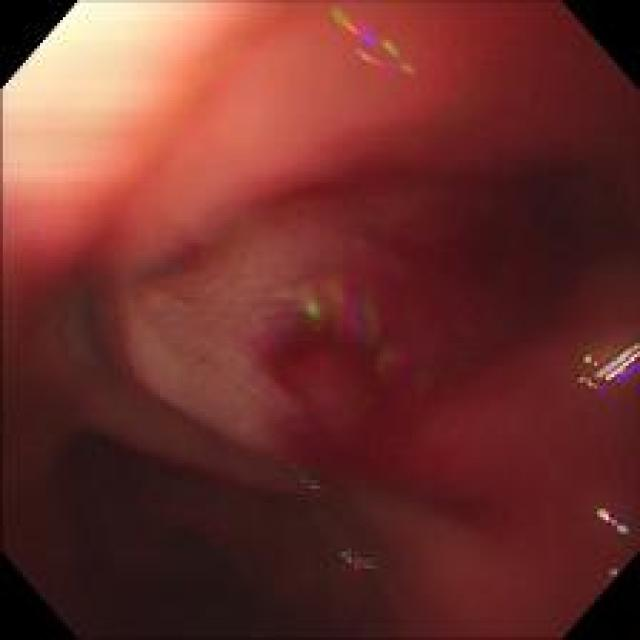blur: (2, 4, 635, 631)
color misalignment: (289, 281, 424, 390), (325, 4, 418, 84), (564, 330, 638, 404), (65, 284, 114, 381), (328, 528, 385, 586), (588, 485, 635, 554), (284, 459, 328, 502)
contrast: (18, 368, 334, 630), (379, 120, 635, 330)
saturation: (14, 9, 162, 141)
